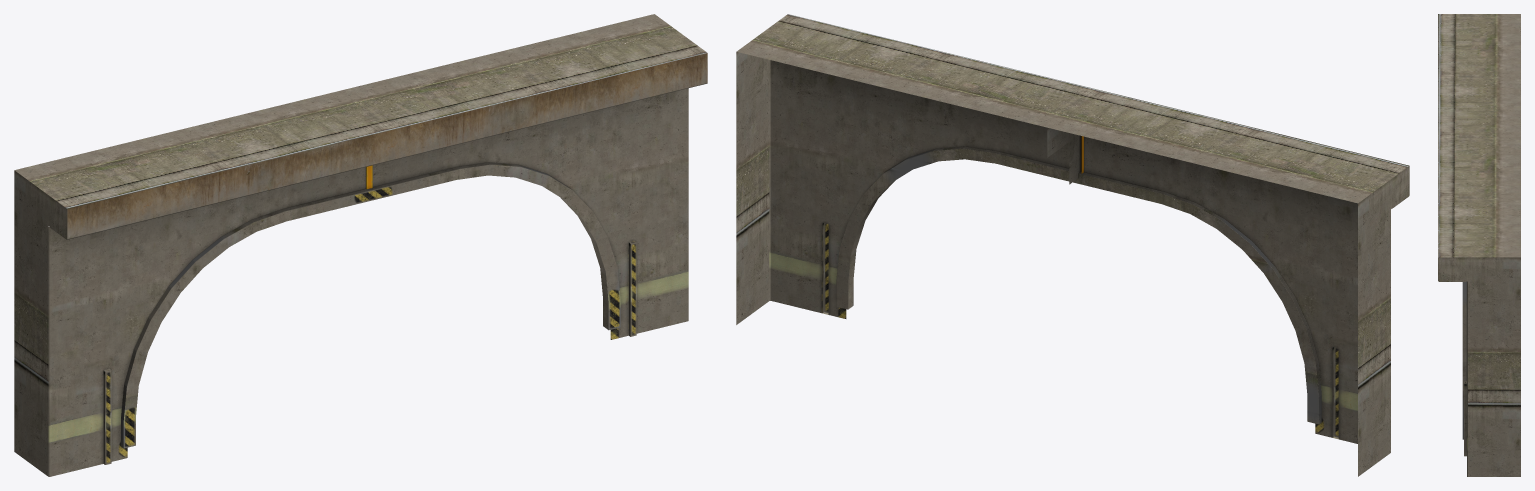
The model's file is Tun_SemiEntranceWide.fbx.
The picture shows the model from 3 angles, left to right: view 1: azimuth 30°, elevation 25°; view 2: azimuth 150°, elevation 25°; view 3: azimuth 270°, elevation 25°; orthographic projection. The views are drawn at different scales.
Parts seen in each view (by area): view 1: midjoiner.001; view 2: midjoiner.001; view 3: midjoiner.001.
Part boxes in pixels (bbox=[...]): midjoiner.001: bbox=[14, 14, 707, 476]; midjoiner.001: bbox=[736, 14, 1409, 476]; midjoiner.001: bbox=[1438, 14, 1520, 476].
Size of the model in its own units: 3189 by 1340 by 459.
